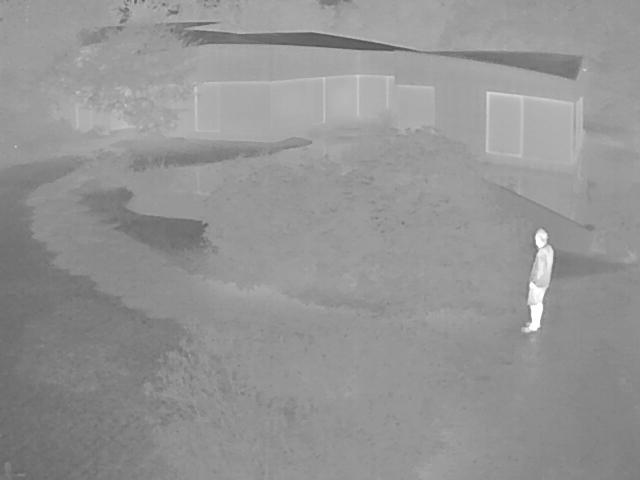person: (524, 228, 554, 330)
